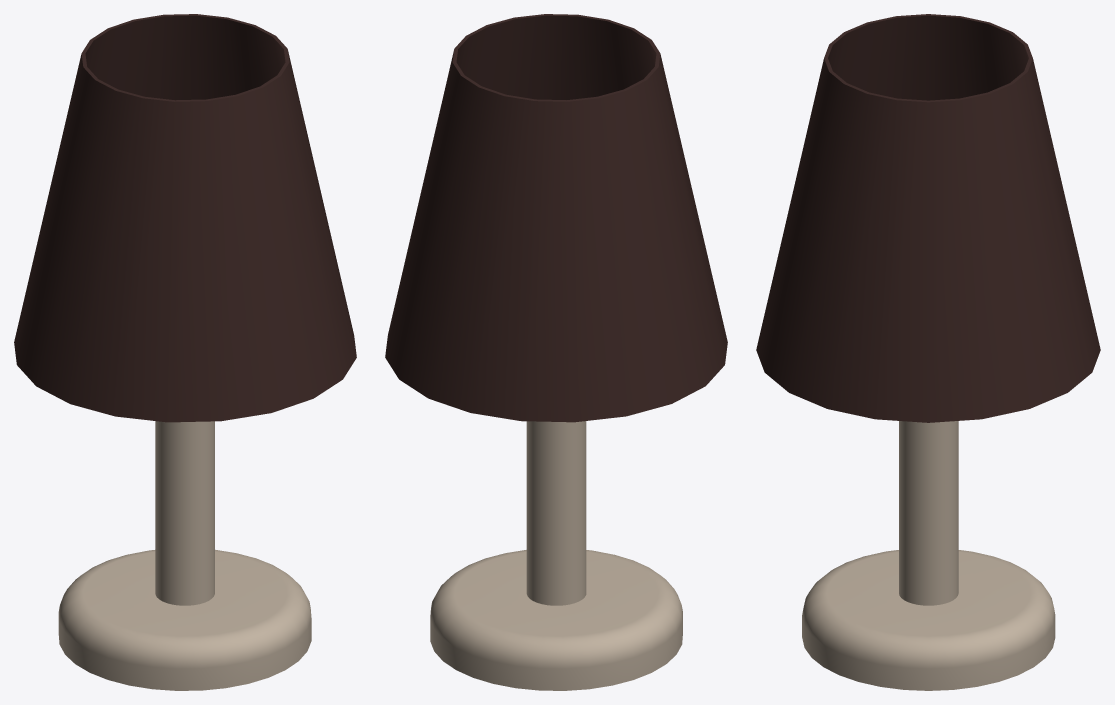
File: LampeChevet3_2.fbx
The picture shows the model from 3 angles, left to right: view 1: azimuth 30°, elevation 25°; view 2: azimuth 150°, elevation 25°; view 3: azimuth 270°, elevation 25°; orthographic projection.
Parts seen in each view (by area): view 1: pPipe110, pCylinder764; view 2: pPipe110, pCylinder764; view 3: pPipe110, pCylinder764.
Part boxes in pixels (x1=…): pPipe110: x1=14, y1=14, x2=356, y2=422; pCylinder764: x1=58, y1=421, x2=311, y2=690; pPipe110: x1=385, y1=14, x2=727, y2=422; pCylinder764: x1=430, y1=421, x2=682, y2=690; pPipe110: x1=756, y1=14, x2=1100, y2=422; pCylinder764: x1=802, y1=421, x2=1055, y2=690.
Size of the model in its own units: 13.33 by 24.73 by 13.33.
